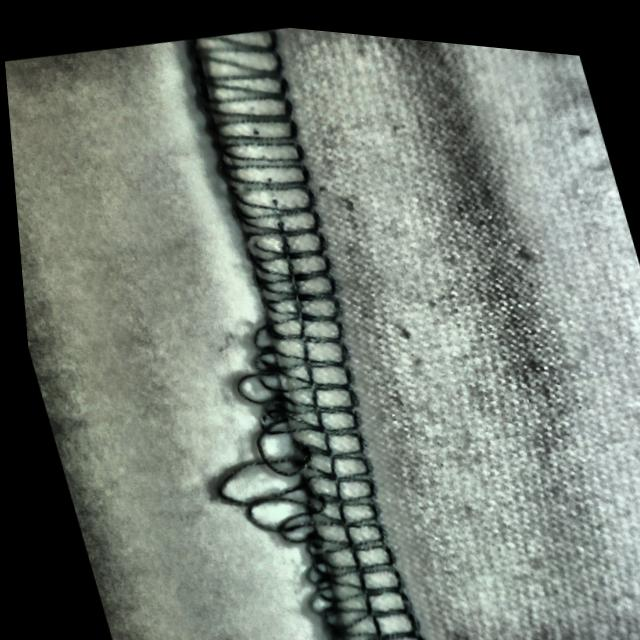Stitch: (159, 292, 434, 640)
